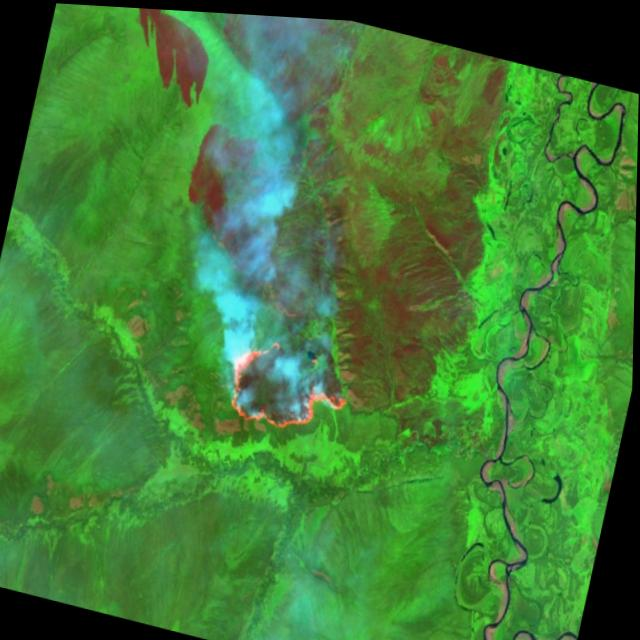fire: (218, 324, 360, 448)
